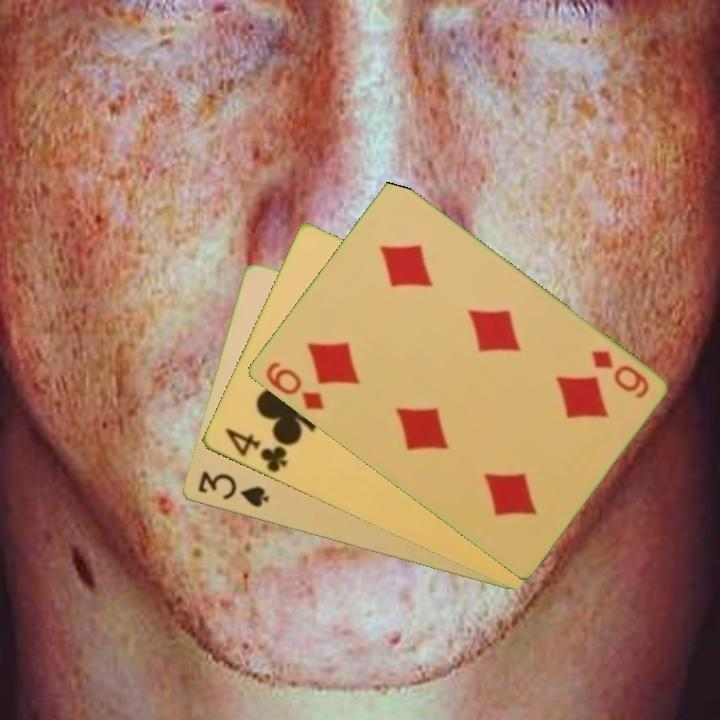3s: (194, 468, 272, 511)
4c: (221, 424, 289, 476)
6d: (586, 346, 652, 402), (261, 358, 327, 413)
